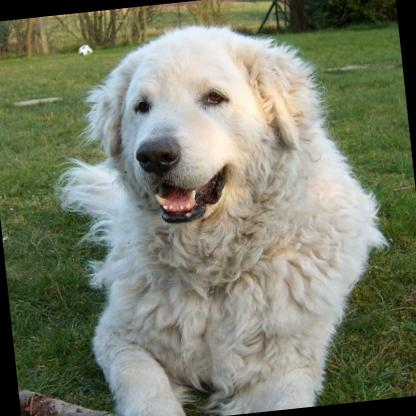kuvasz: (43, 0, 416, 416)
